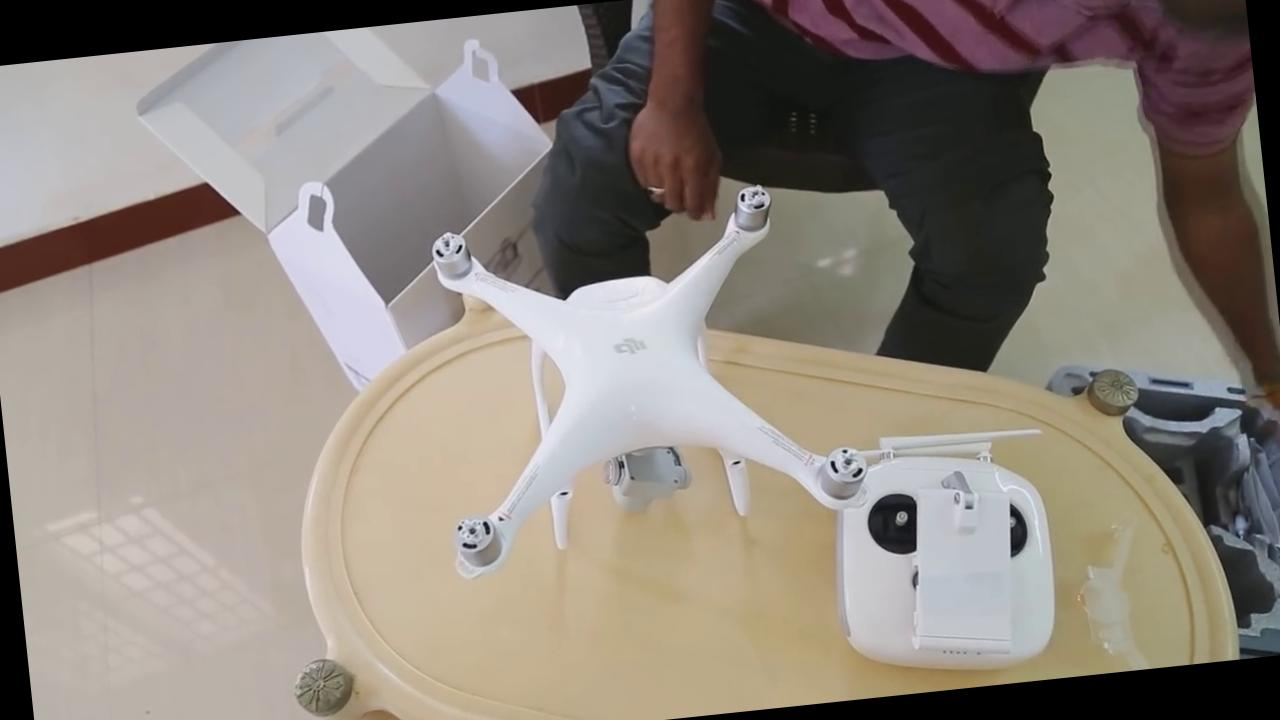drone: (394, 175, 872, 580)
